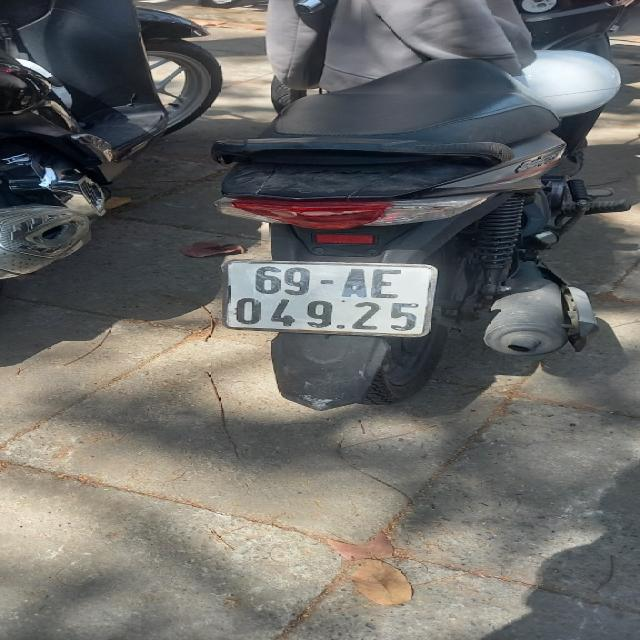0: (233, 296, 266, 326)
4: (270, 298, 301, 328)
5: (388, 301, 418, 331)
6: (254, 266, 283, 294)
9: (306, 300, 335, 329), (283, 266, 311, 296)
A: (341, 268, 371, 298)
B: (352, 302, 381, 330)
E: (373, 269, 402, 298)
